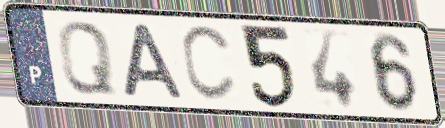4: (311, 28, 362, 112)
5: (235, 23, 301, 111)
6: (366, 31, 420, 115)
A: (121, 22, 188, 101)
C: (178, 23, 239, 105)
Q: (55, 19, 118, 97)
